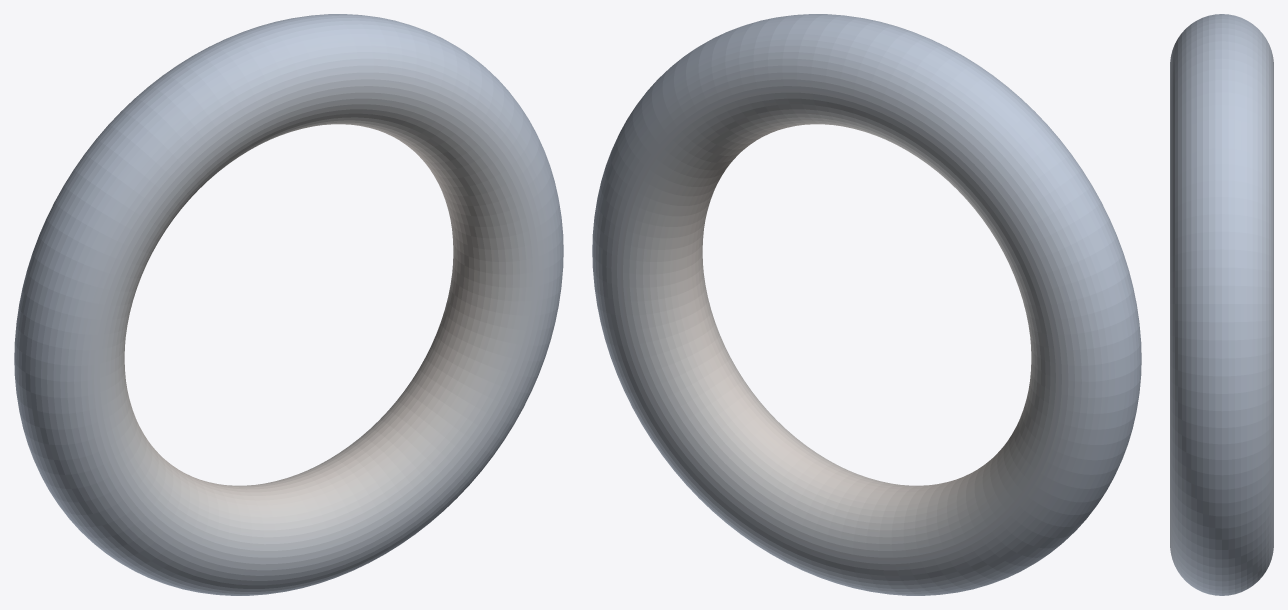
3 views of the same model, side by side, from view 1: azimuth 30°, elevation 25°; view 2: azimuth 150°, elevation 25°; view 3: azimuth 270°, elevation 25° (orthographic). The views are drawn at different scales.
Parts seen in each view (by area): view 1: world; view 2: world; view 3: world.
Part boxes in pixels (x1,y1,x2,y2): world: (14, 14, 563, 595); world: (592, 14, 1141, 595); world: (1170, 14, 1273, 595).
Bounding box in the file's own units: 27.6 × 27.6 × 4.92.
